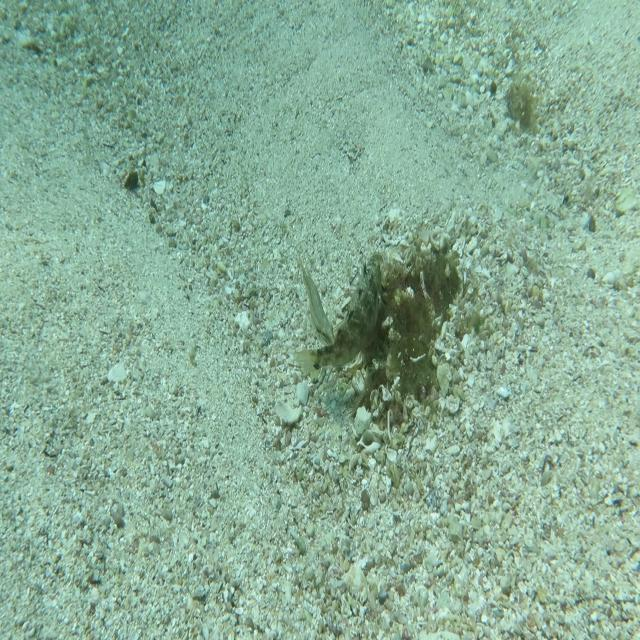BEND: (292, 248, 385, 386)
core_nest: (395, 256, 445, 298)
female: (297, 249, 336, 347)
nest: (321, 227, 454, 439)
